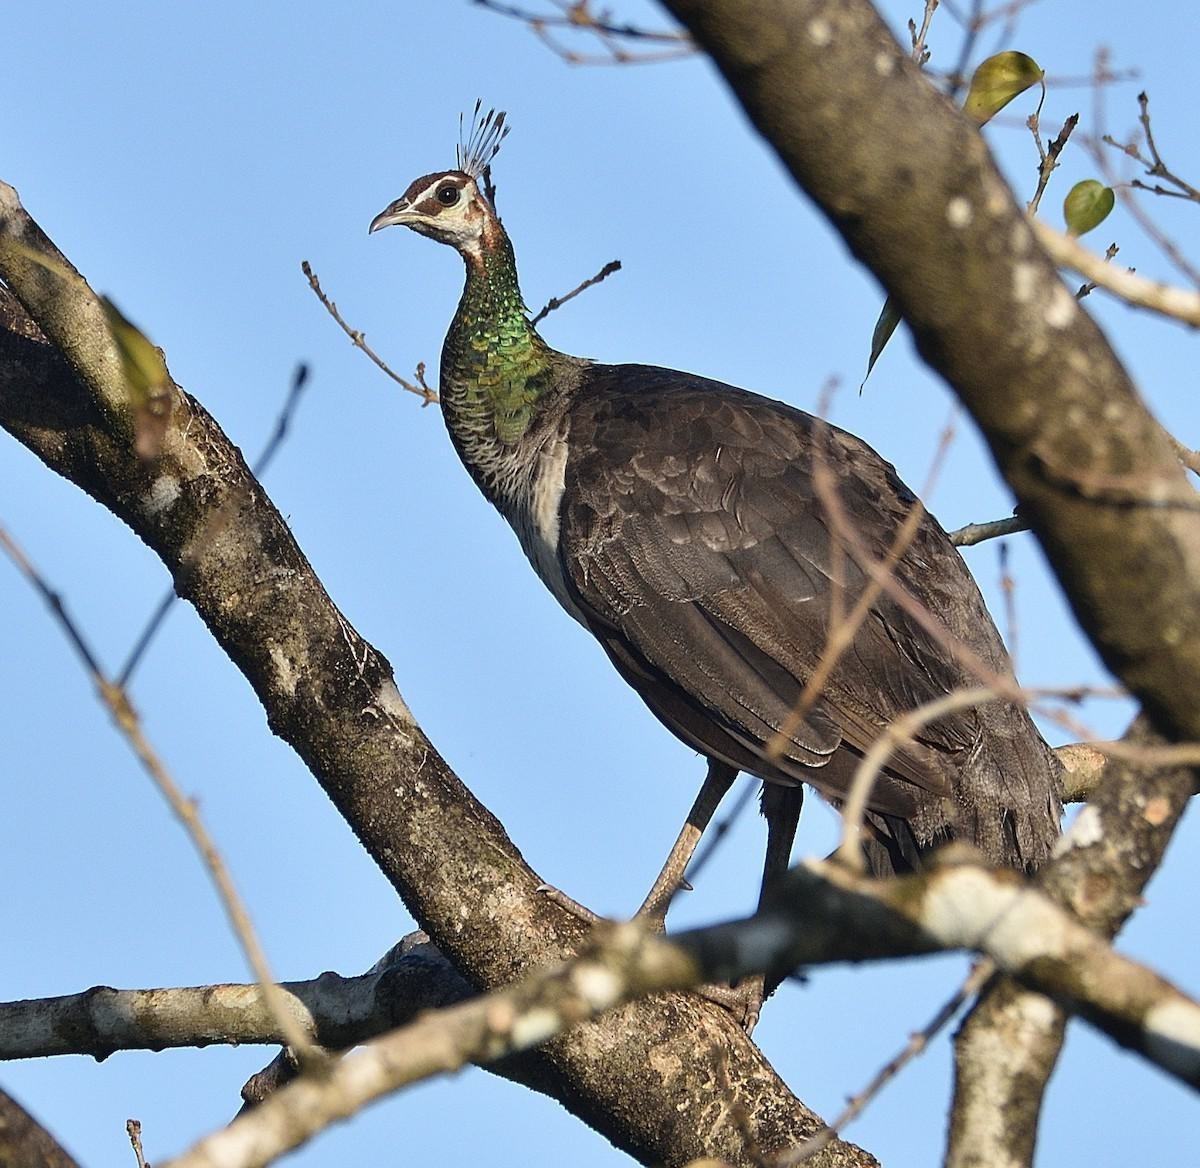peacock: (346, 75, 1093, 918)
